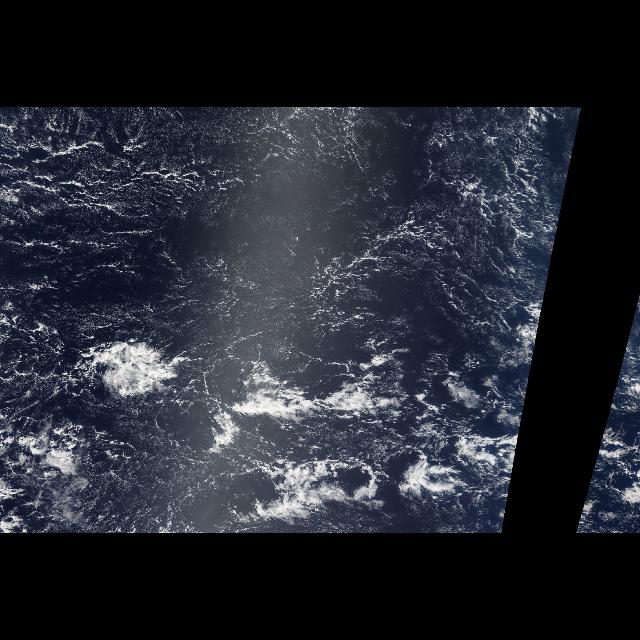Fish: (86, 338, 524, 526), (578, 430, 604, 526)
Gravel: (147, 353, 517, 522)
Sugar: (4, 111, 554, 342)
